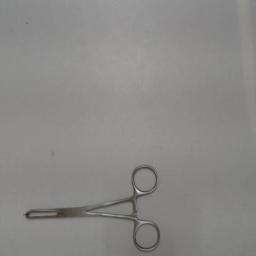Allis Tissue Forceps: (15, 158, 163, 254)
